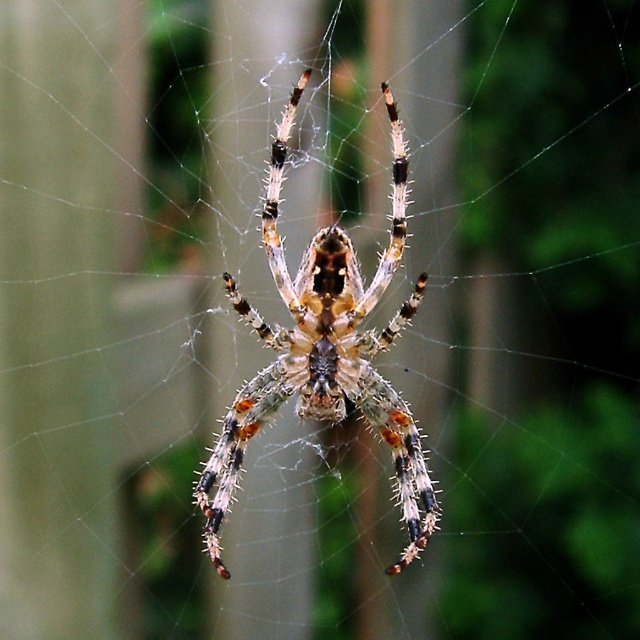Spider: (192, 68, 443, 580)
